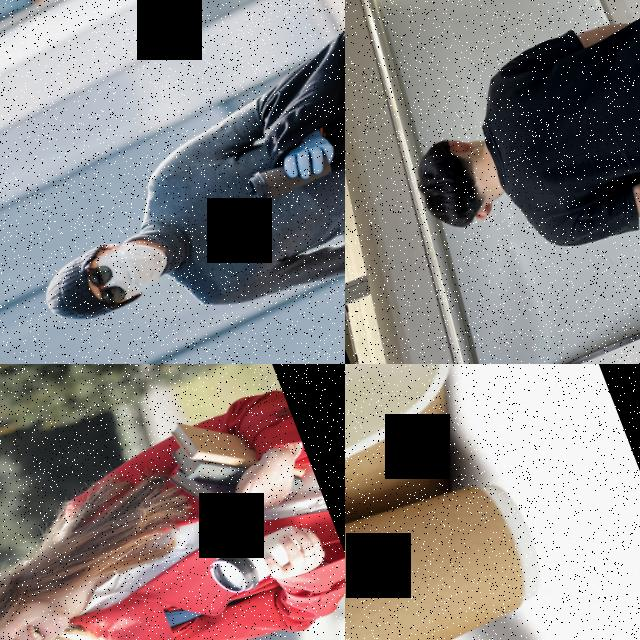cup: (345, 443, 562, 640), (345, 364, 501, 574), (202, 516, 321, 602), (245, 145, 336, 207)
